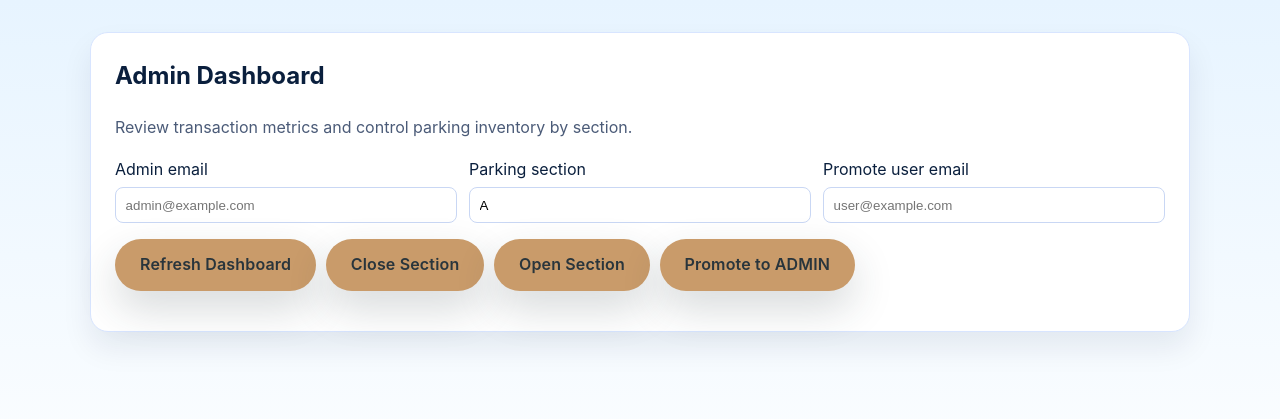
Test case: AdminDashboardPage › shows promotion validation and success message
Type "admin@club.com" into the field with placeholder "admin@example.com" at (286, 205), box [115, 187, 457, 224]
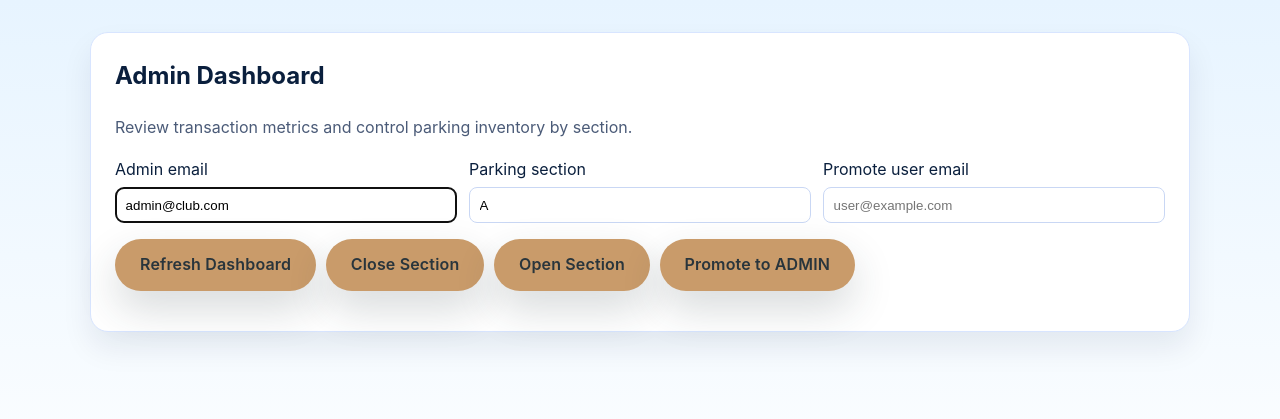
Click the button "Promote to ADMIN" at (757, 265), box [660, 240, 855, 291]
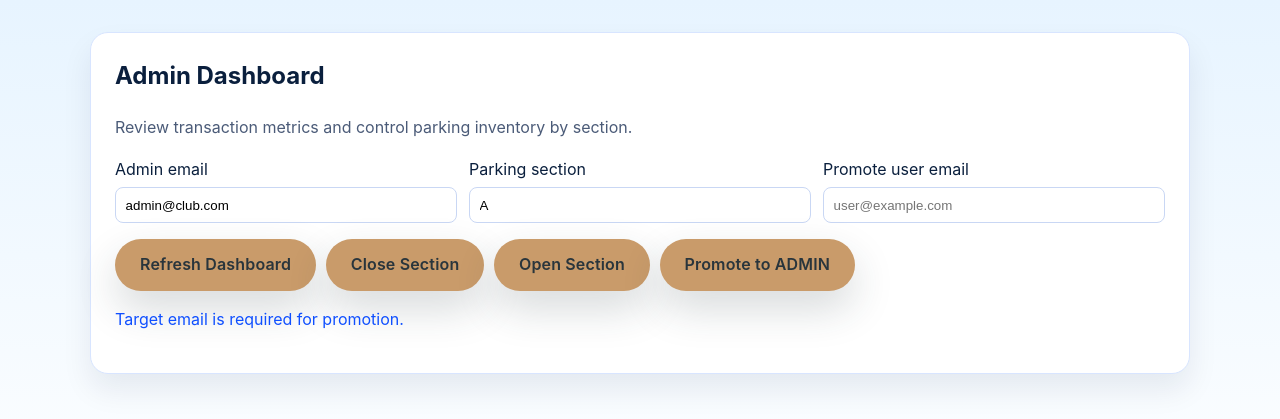
Now the text "Target email is required for promotion." is shown, box [115, 309, 404, 329]
Type "fan@club.com" into the field with placeholder "user@example.com" at (994, 205), box [823, 187, 1165, 224]
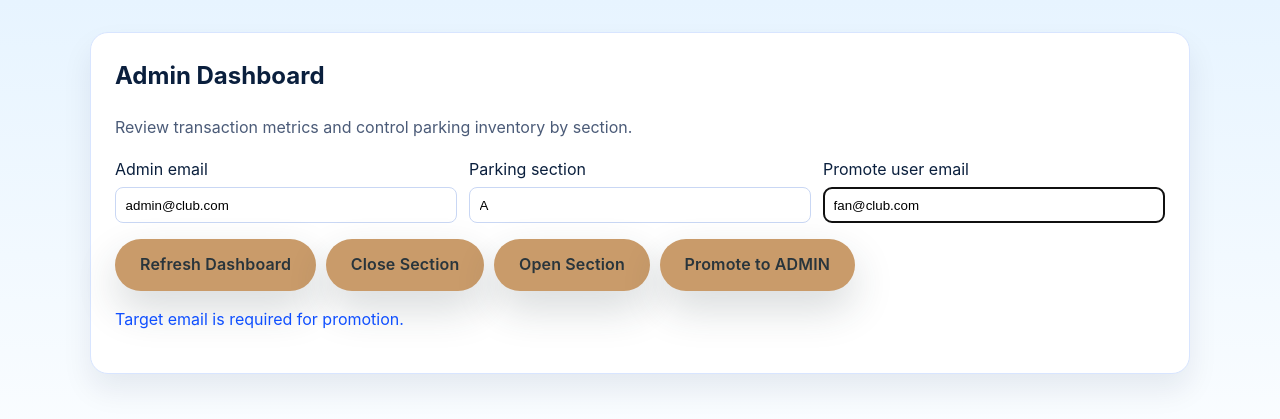
Click the button "Promote to ADMIN" at (757, 265), box [660, 240, 855, 291]
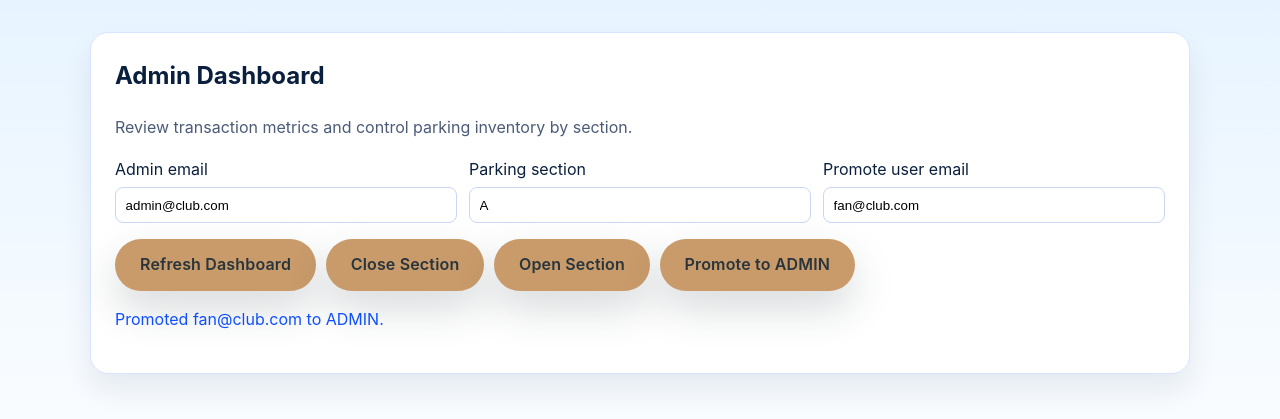
Now the text "Promoted fan@club.com to ADMIN." is shown, box [115, 309, 384, 329]
